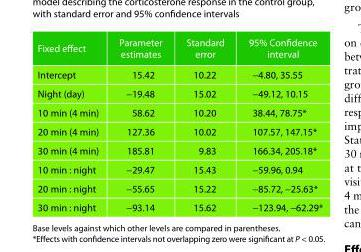table: (36, 36, 322, 213)
table column: (235, 36, 322, 213), (36, 36, 108, 213), (108, 36, 173, 213), (173, 36, 235, 213)
table column header: (36, 36, 322, 63)
table row: (36, 36, 322, 63), (36, 63, 322, 83), (36, 83, 322, 103), (36, 121, 322, 140), (36, 140, 322, 159), (36, 159, 322, 178), (36, 178, 322, 197), (36, 103, 322, 121), (36, 197, 322, 213)
